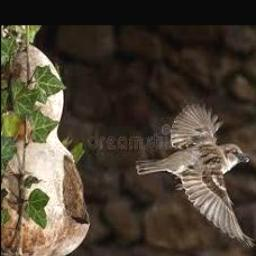Sparrow: (135, 102, 256, 248)
